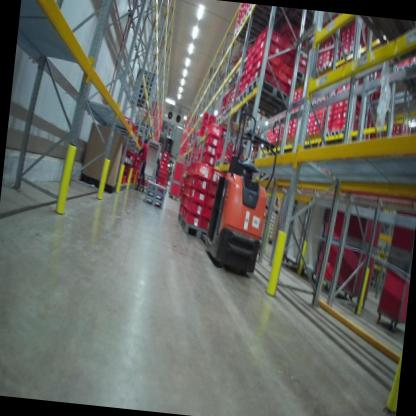pallet: (244, 5, 328, 74), (237, 67, 311, 115), (351, 17, 416, 65), (244, 77, 291, 111), (174, 212, 214, 240), (392, 60, 416, 95), (238, 13, 266, 36), (213, 113, 241, 134), (232, 24, 255, 43), (143, 194, 167, 209), (145, 179, 167, 195), (133, 74, 156, 89), (134, 67, 158, 81), (406, 58, 416, 90), (129, 79, 154, 91), (130, 97, 153, 110), (144, 189, 164, 202), (132, 86, 153, 97), (132, 92, 153, 101), (323, 91, 336, 104), (327, 55, 339, 69), (340, 125, 354, 137), (328, 125, 340, 138), (338, 48, 349, 62), (142, 148, 155, 158), (312, 66, 322, 79), (336, 85, 345, 99), (315, 96, 325, 107), (322, 128, 329, 139)
pallet_truck: (192, 95, 288, 280)
small_load_carrier: (186, 183, 209, 206), (189, 160, 215, 179), (180, 207, 205, 226), (181, 196, 203, 217), (201, 132, 227, 148), (188, 172, 208, 190), (195, 143, 222, 156), (203, 119, 223, 136), (193, 151, 216, 165)
